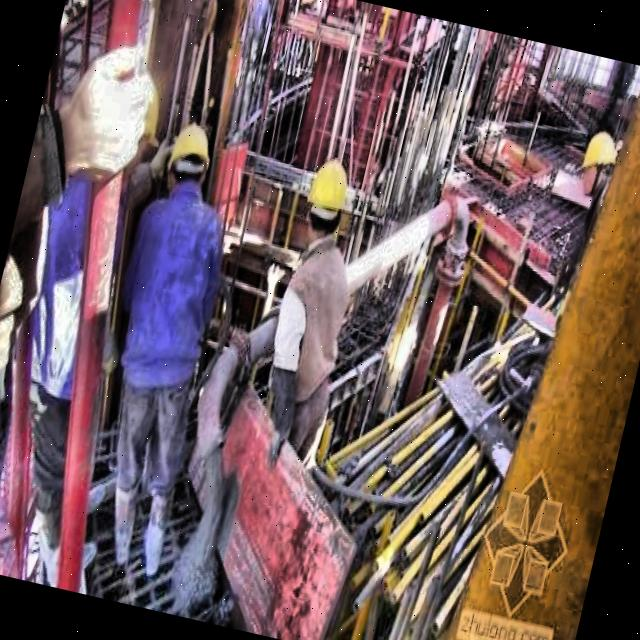helmet: (292, 146, 359, 254), (160, 116, 216, 200), (571, 122, 620, 200)
